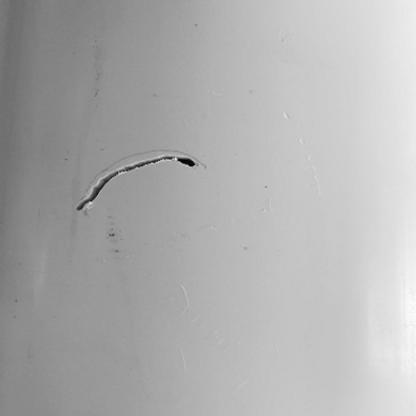fengxi: (74, 153, 200, 214)
